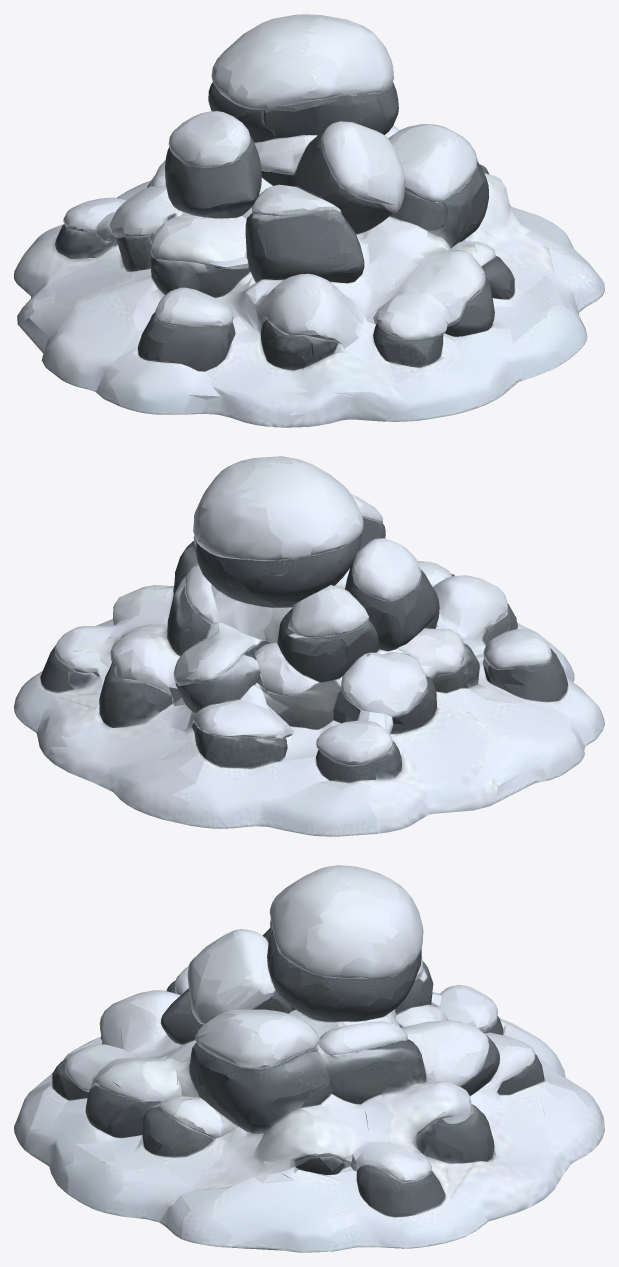
File: rock_small.glb
3 views of the same model, one above another, from view 1: azimuth 30°, elevation 25°; view 2: azimuth 150°, elevation 25°; view 3: azimuth 270°, elevation 25° (orthographic). The views are drawn at different scales.
Size of the model in its own units: 1.9 by 0.9211 by 1.9.
Materials: 1 (1 with a texture image).
